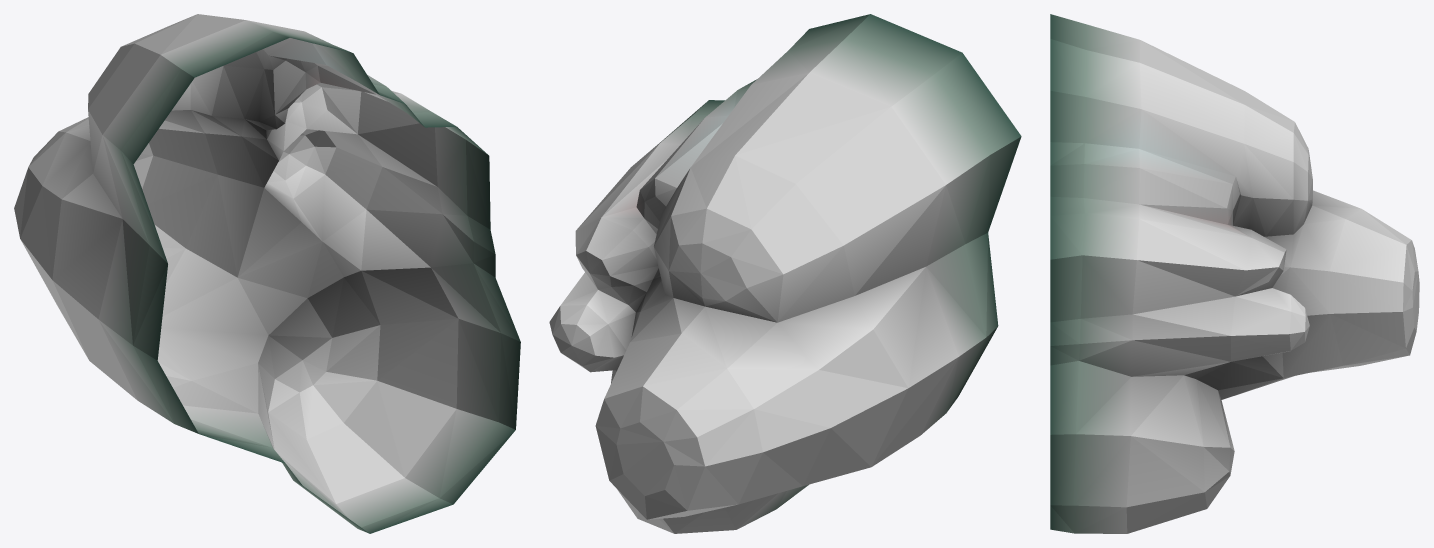
The model's file is Terrain_DecorIslandsMts.fbx.
3 views of the same model, side by side, from view 1: azimuth 30°, elevation 25°; view 2: azimuth 150°, elevation 25°; view 3: azimuth 270°, elevation 25° (orthographic). The views are drawn at different scales.
Parts seen in each view (by area): view 1: Terrain_DecorIslandsMts_Mesh; view 2: Terrain_DecorIslandsMts_Mesh; view 3: Terrain_DecorIslandsMts_Mesh.
Boxes of the visible parts, left/top/right/bottom form: Terrain_DecorIslandsMts_Mesh: left=14, top=14, right=520, bottom=533; Terrain_DecorIslandsMts_Mesh: left=549, top=14, right=1021, bottom=533; Terrain_DecorIslandsMts_Mesh: left=1050, top=14, right=1419, bottom=533.
Bounding box in the file's own units: 577 × 744 × 570.
